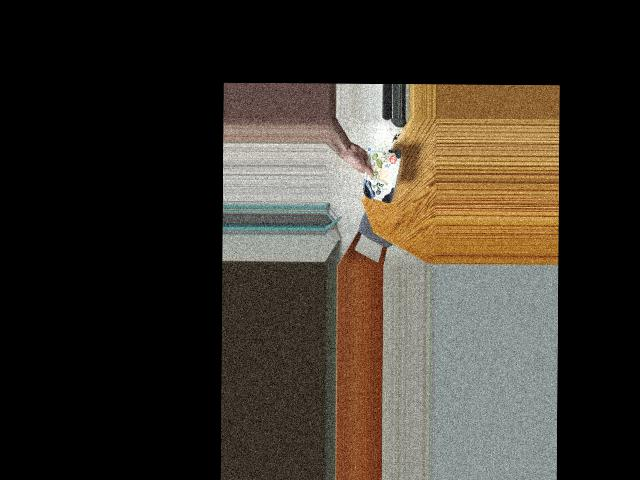cheese: (361, 148, 402, 202)
